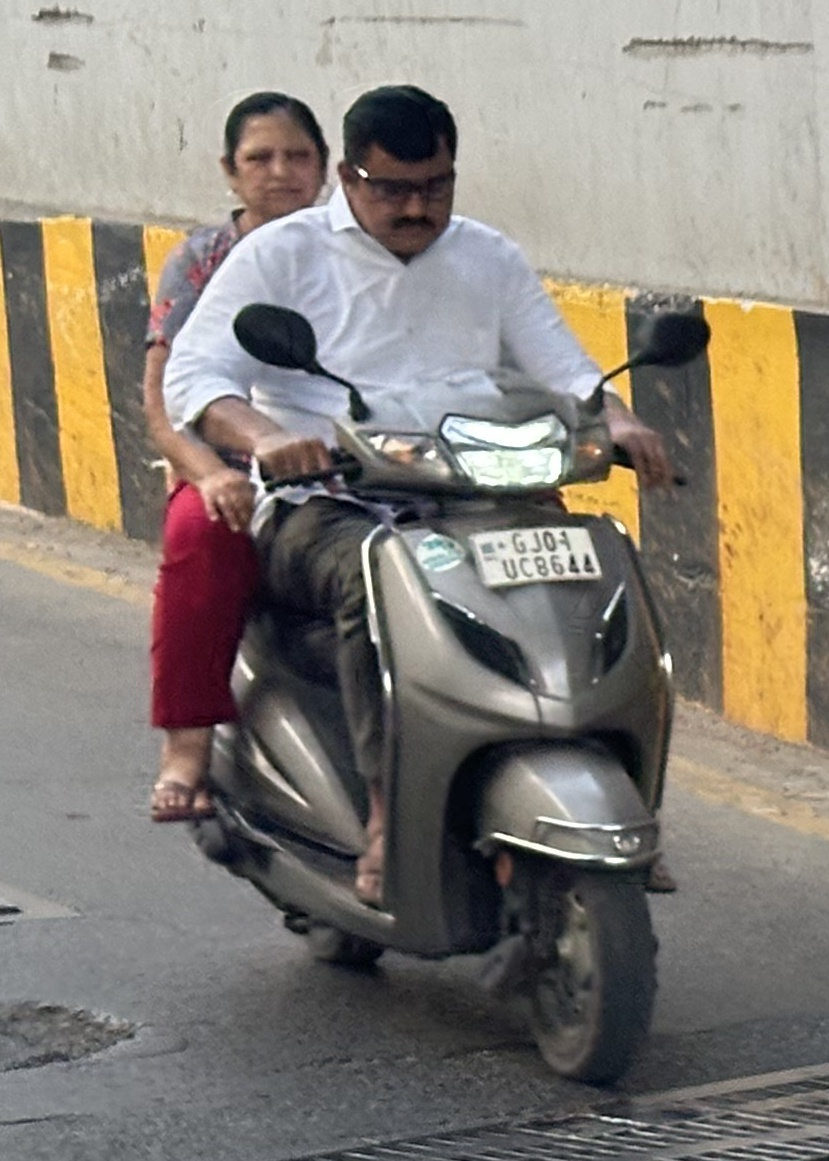BikeWithRider: (124, 28, 738, 1111)
NoHelmet: (320, 83, 489, 259), (192, 88, 358, 224)
